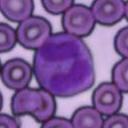E: (34, 32, 94, 98)
